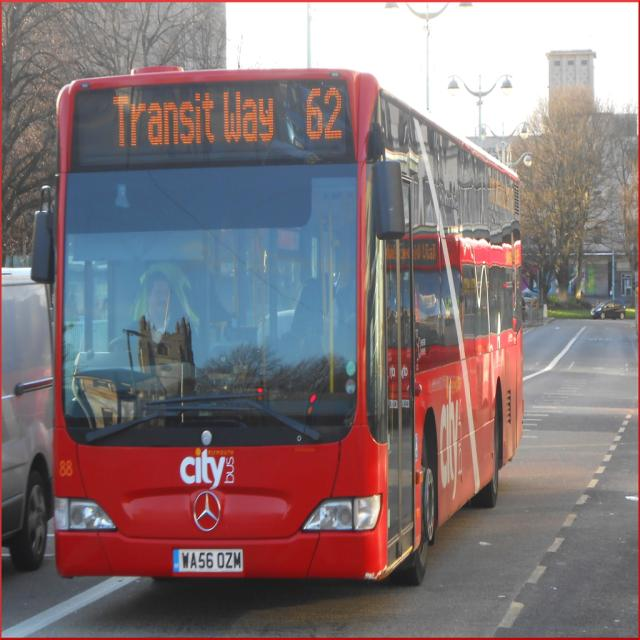car: (590, 295, 624, 320)
